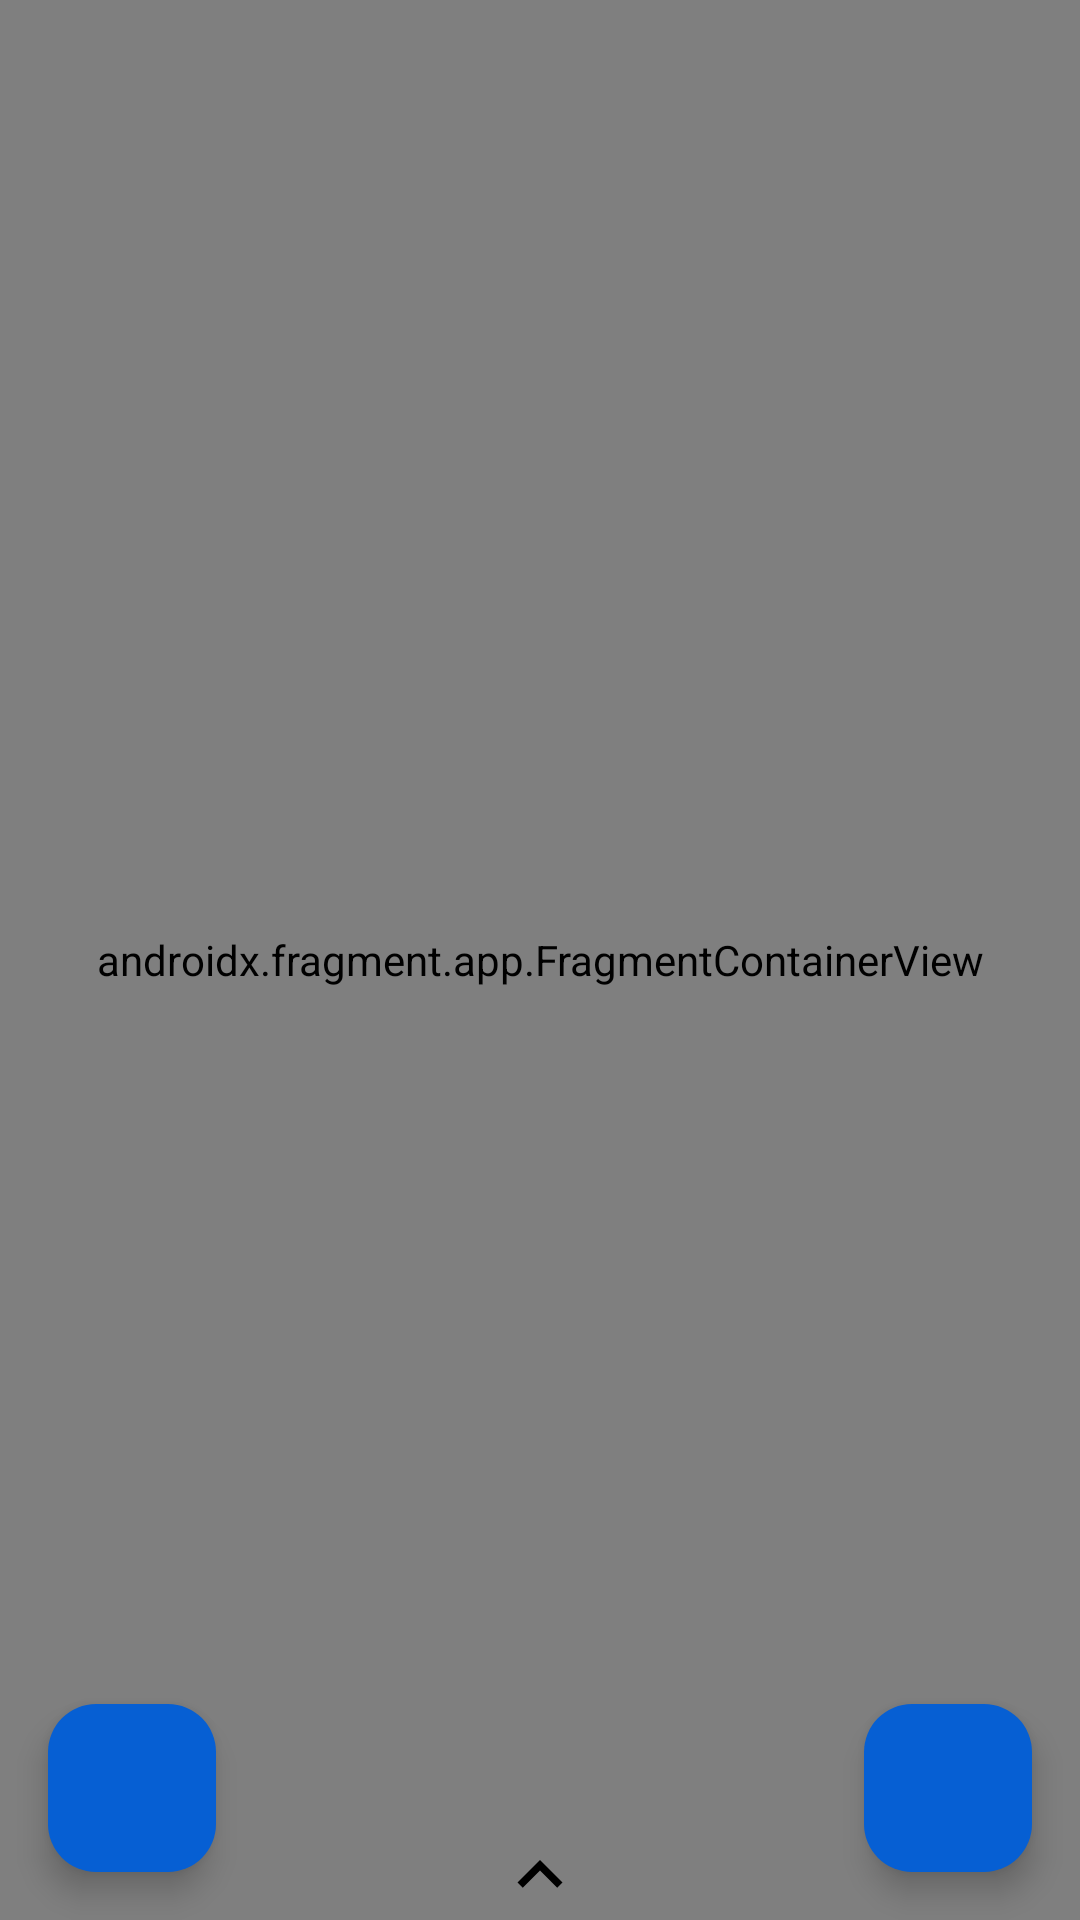

Icons on this 1080 × 1920 Android screen, each with its box as {"left": x1, "top": y1, "right": x2, "bottom": y2}:
keyboard arrow up: {"left": 517, "top": 1860, "right": 563, "bottom": 1888}
